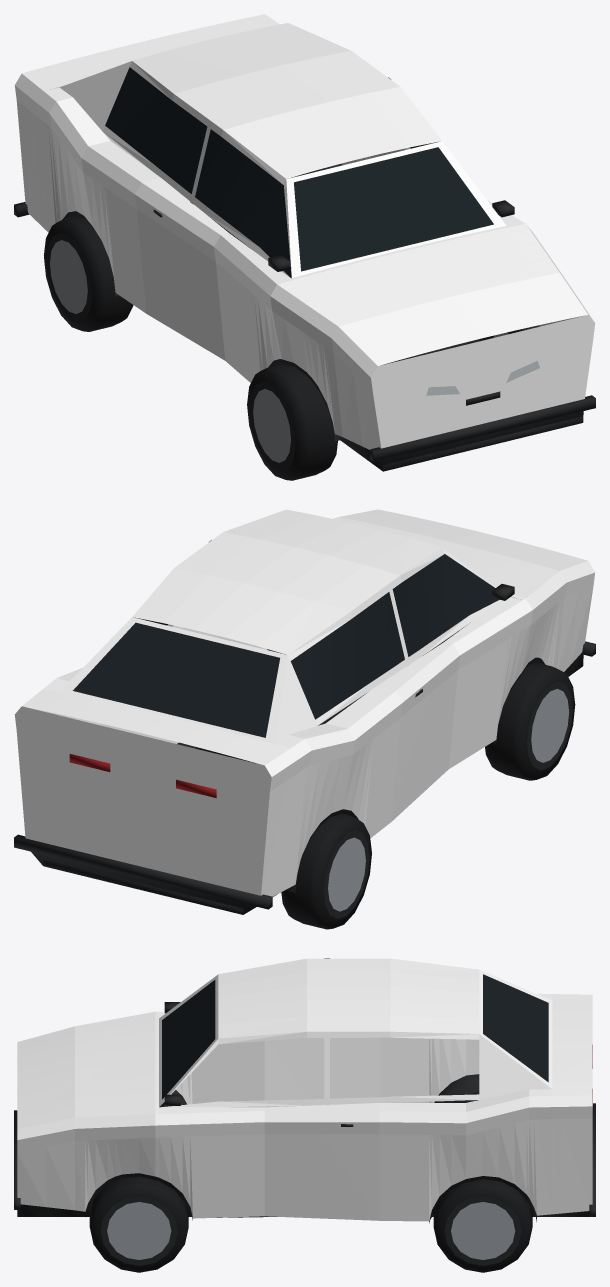
The model's file is bancroft_granito.glb.
3 renders of one model, top to bottom at view 1: azimuth 30°, elevation 25°; view 2: azimuth 150°, elevation 25°; view 3: azimuth 270°, elevation 25°, orthographic. The views are drawn at different scales.
Visible parts, largest first — view 1: Body_Paint, Body_Details, Mount_FrontLeft_Wheel_Details, Mount_RearLeft_Wheel_Details; view 2: Body_Paint, Body_Details, Mount_FrontLeft_Wheel_Details, Mount_RearLeft_Wheel_Details; view 3: Body_Paint, Body_Details, Mount_FrontRight_Wheel_Details, Mount_RearRight_Wheel_Details.
Part boxes in pixels (bbox=[...]): Body_Paint: bbox=[14, 14, 595, 449]; Body_Details: bbox=[14, 67, 595, 471]; Mount_FrontLeft_Wheel_Details: bbox=[247, 363, 337, 480]; Mount_RearLeft_Wheel_Details: bbox=[44, 215, 133, 331]; Body_Paint: bbox=[14, 509, 595, 896]; Body_Details: bbox=[14, 554, 595, 914]; Mount_FrontLeft_Wheel_Details: bbox=[485, 662, 575, 780]; Mount_RearLeft_Wheel_Details: bbox=[281, 813, 371, 929]; Body_Paint: bbox=[17, 958, 592, 1221]; Body_Details: bbox=[14, 974, 595, 1223]; Mount_FrontRight_Wheel_Details: bbox=[89, 1176, 188, 1272]; Mount_RearRight_Wheel_Details: bbox=[433, 1179, 532, 1272].
Size of the model in its own units: 2.2 by 2.01 by 4.7.
Materials: 2 (1 with a texture image).
